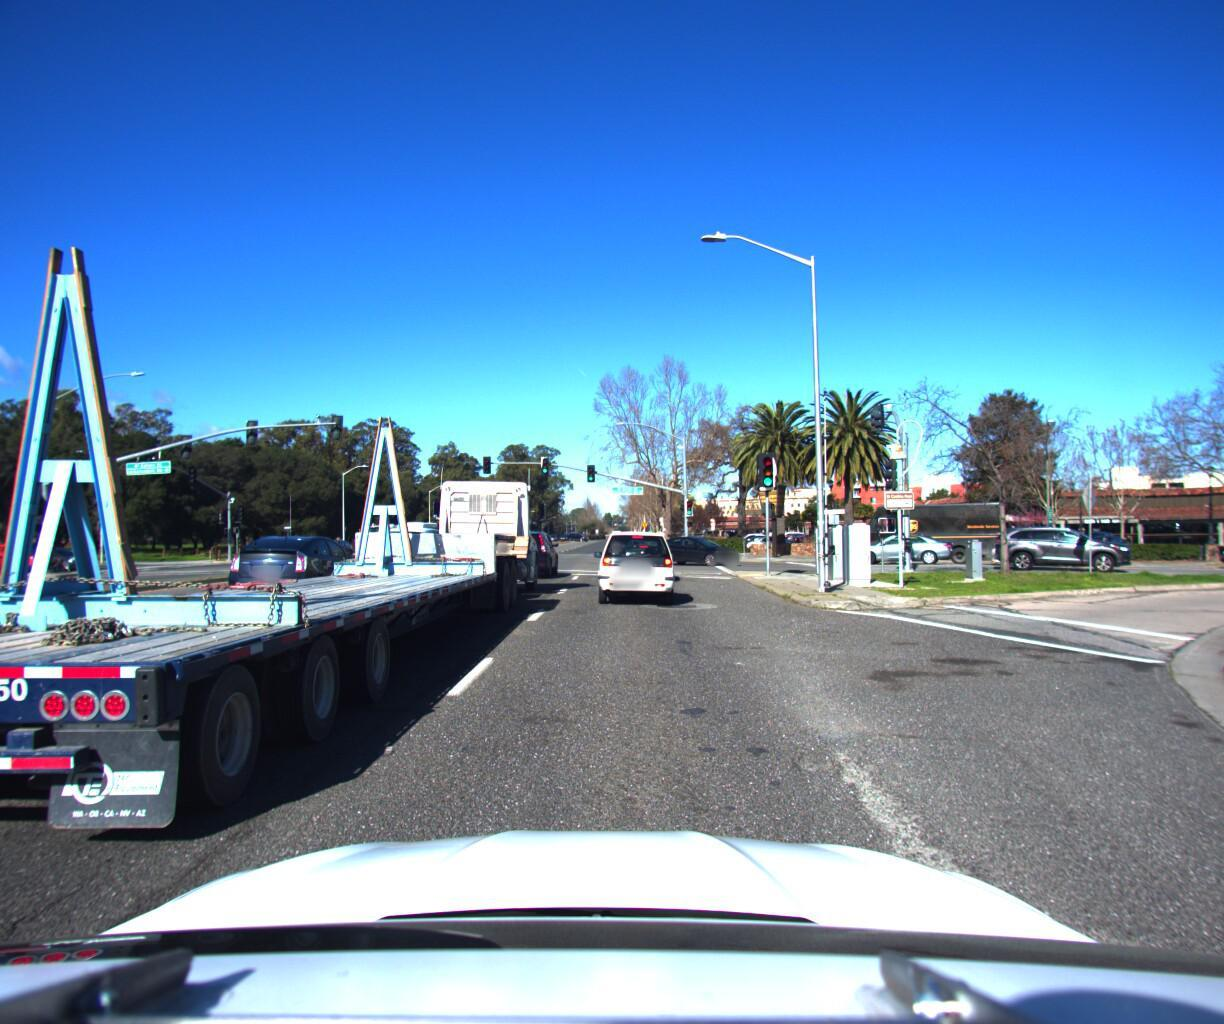bus: (397, 508, 445, 542)
car: (0, 535, 91, 765), (222, 525, 372, 603), (594, 528, 681, 603), (992, 517, 1125, 565), (373, 520, 453, 568), (845, 523, 955, 557), (503, 520, 569, 573), (642, 531, 742, 565), (0, 533, 95, 568), (728, 522, 777, 541), (1208, 523, 1224, 559), (0, 539, 18, 567)
truck: (0, 98, 557, 953), (844, 490, 1011, 556)
